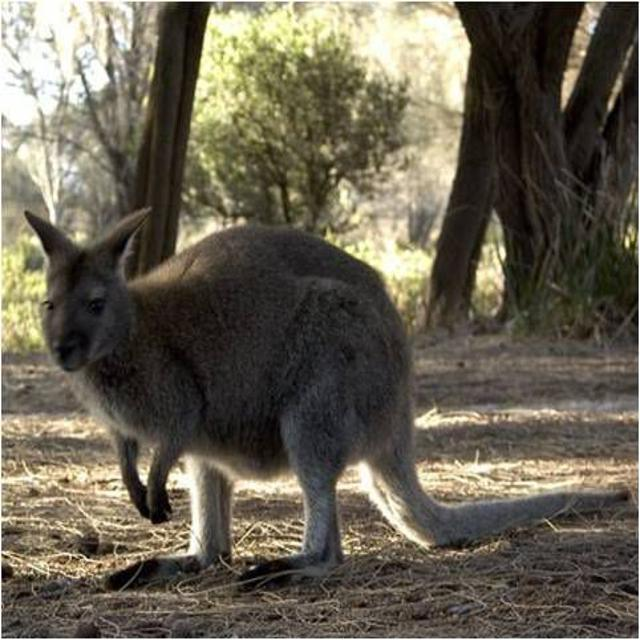kangaroo: (17, 188, 395, 585)
